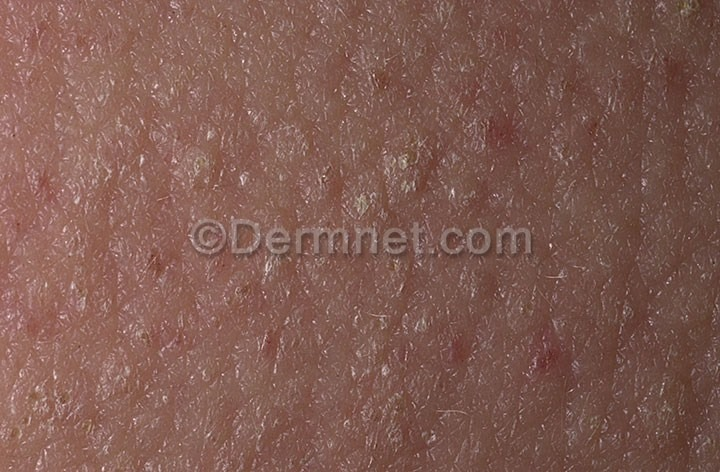Eczema: (1, 1, 720, 472)
